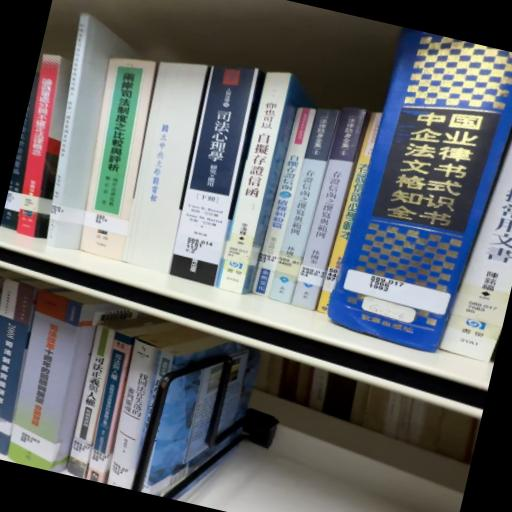backward: (114, 59, 216, 279)
book: (166, 64, 268, 295), (214, 66, 306, 299), (79, 54, 169, 220), (102, 337, 168, 491), (9, 55, 71, 206)
